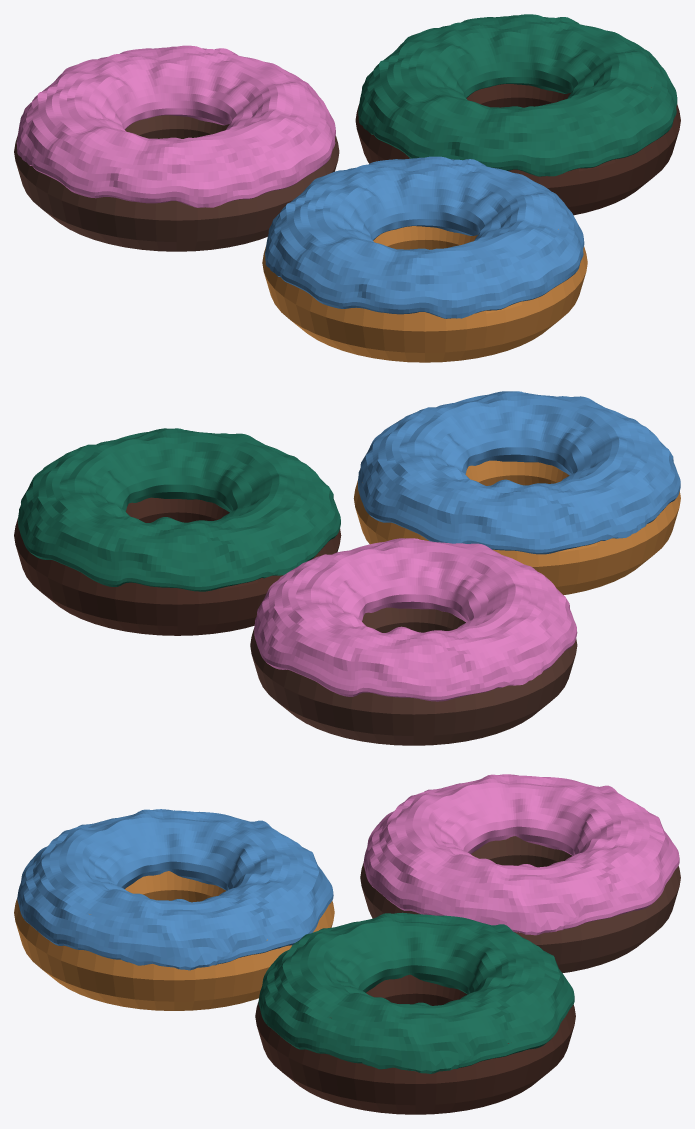
Rendered from threeDonuts1.fbx.
3 renders of one model, top to bottom at view 1: azimuth 30°, elevation 25°; view 2: azimuth 150°, elevation 25°; view 3: azimuth 270°, elevation 25°, orthographic. The views are drawn at different scales.
Visible parts, largest first — view 1: Torus.000, Torus, Torus.001; view 2: Torus, Torus.001, Torus.000; view 3: Torus.001, Torus.000, Torus.
Boxes of the visible parts, <box> form: Torus.000: <box>262,156,587,362</box>; Torus: <box>14,45,339,251</box>; Torus.001: <box>355,14,680,215</box>; Torus: <box>250,538,577,745</box>; Torus.001: <box>14,428,341,635</box>; Torus.000: <box>353,391,680,594</box>; Torus.001: <box>255,912,575,1114</box>; Torus.000: <box>14,809,334,1010</box>; Torus: <box>360,774,680,973</box>.
Size of the model in its own units: 915 by 163 by 939.
